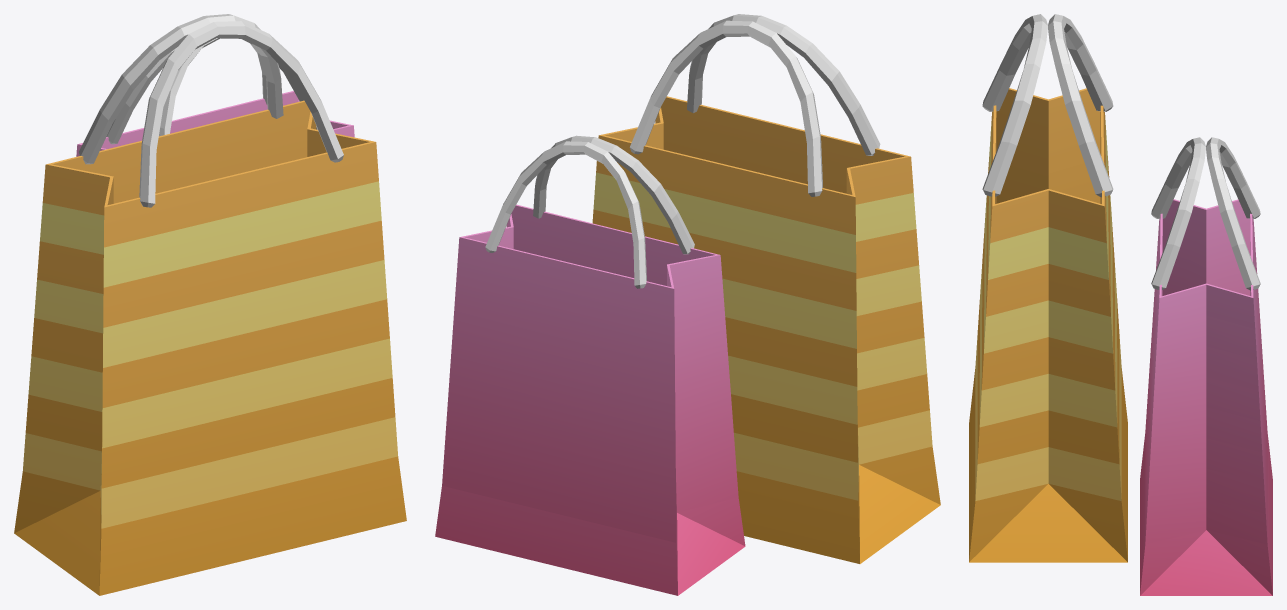
The model's file is ShoppingBags.fbx.
The picture shows the model from 3 angles, left to right: view 1: azimuth 30°, elevation 25°; view 2: azimuth 150°, elevation 25°; view 3: azimuth 270°, elevation 25°; orthographic projection. The views are drawn at different scales.
Visible parts, largest first — view 1: Cube.001, Torus.001, Torus.002, Cube; view 2: Cube, Cube.001, Torus.001, Torus.002; view 3: Cube.001, Cube, Torus.001, Torus.002.
Boxes of the visible parts, x1=… form: Cube.001: x1=14, y1=100, x2=406, y2=595; Torus.001: x1=79, y1=14, x2=343, y2=207; Torus.002: x1=106, y1=38, x2=317, y2=144; Cube: x1=76, y1=91, x2=354, y2=156; Cube: x1=435, y1=204, x2=745, y2=595; Cube.001: x1=592, y1=96, x2=940, y2=563; Torus.001: x1=629, y1=14, x2=880, y2=196; Torus.002: x1=485, y1=135, x2=694, y2=288; Cube.001: x1=969, y1=88, x2=1127, y2=562; Cube: x1=1140, y1=199, x2=1272, y2=595; Torus.001: x1=982, y1=14, x2=1113, y2=197; Torus.002: x1=1151, y1=137, x2=1260, y2=290.
Bounding box in the file's own units: 289 × 381 × 220.
